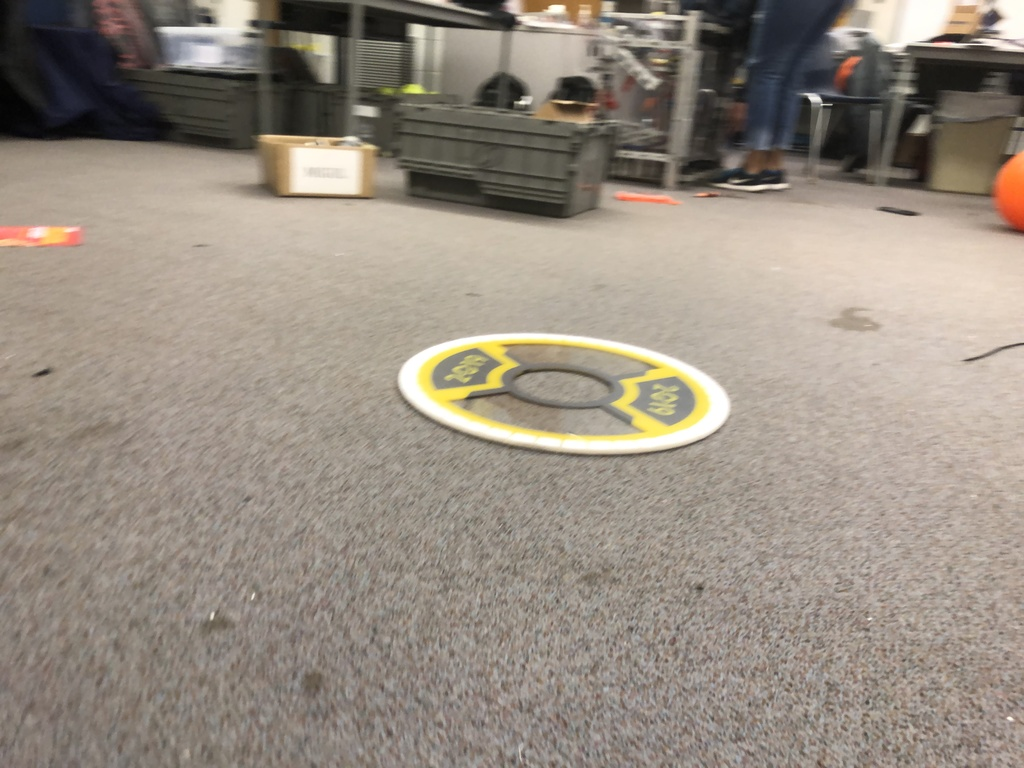hatch_panel: (379, 319, 752, 466)
